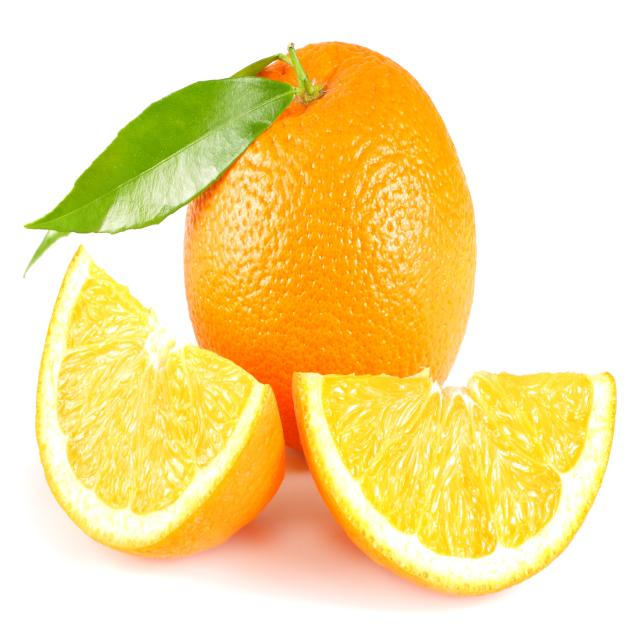Orange: (162, 32, 499, 464), (24, 221, 285, 603), (281, 326, 626, 603)
